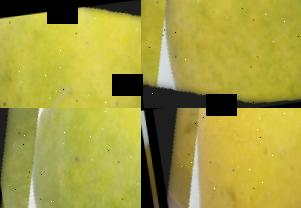PartiallyRipe: (141, 0, 301, 108), (0, 0, 141, 108), (0, 108, 141, 208)
Ripe: (151, 108, 301, 208)
